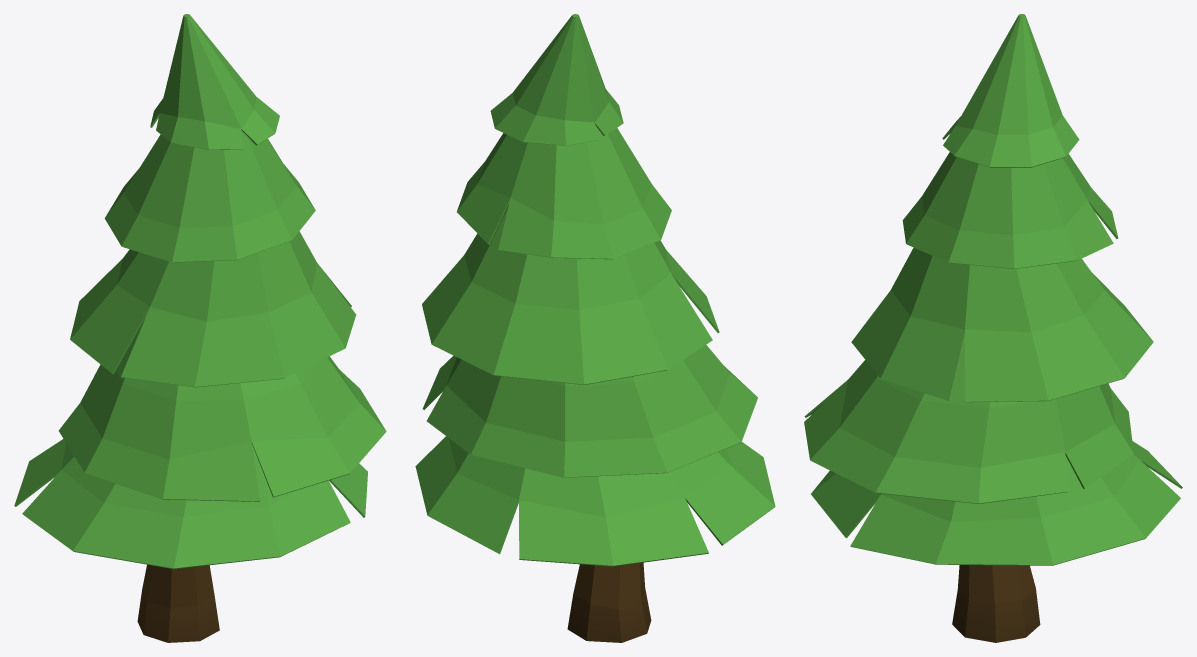
Rendered from tree_2.fbx.
3 renders of one model, left to right at view 1: azimuth 30°, elevation 25°; view 2: azimuth 150°, elevation 25°; view 3: azimuth 270°, elevation 25°, orthographic. The views are drawn at different scales.
Visible parts, largest first — view 1: leaves, trunk; view 2: leaves, trunk; view 3: leaves, trunk.
Part boxes in pixels (<box>): leaves: <box>14,14,386,569</box>; trunk: <box>137,564,219,642</box>; leaves: <box>415,14,775,566</box>; trunk: <box>567,562,651,642</box>; leaves: <box>804,14,1182,565</box>; trunk: <box>952,565,1040,642</box>.
Size of the model in its own units: 5.38 by 10 by 5.54.
